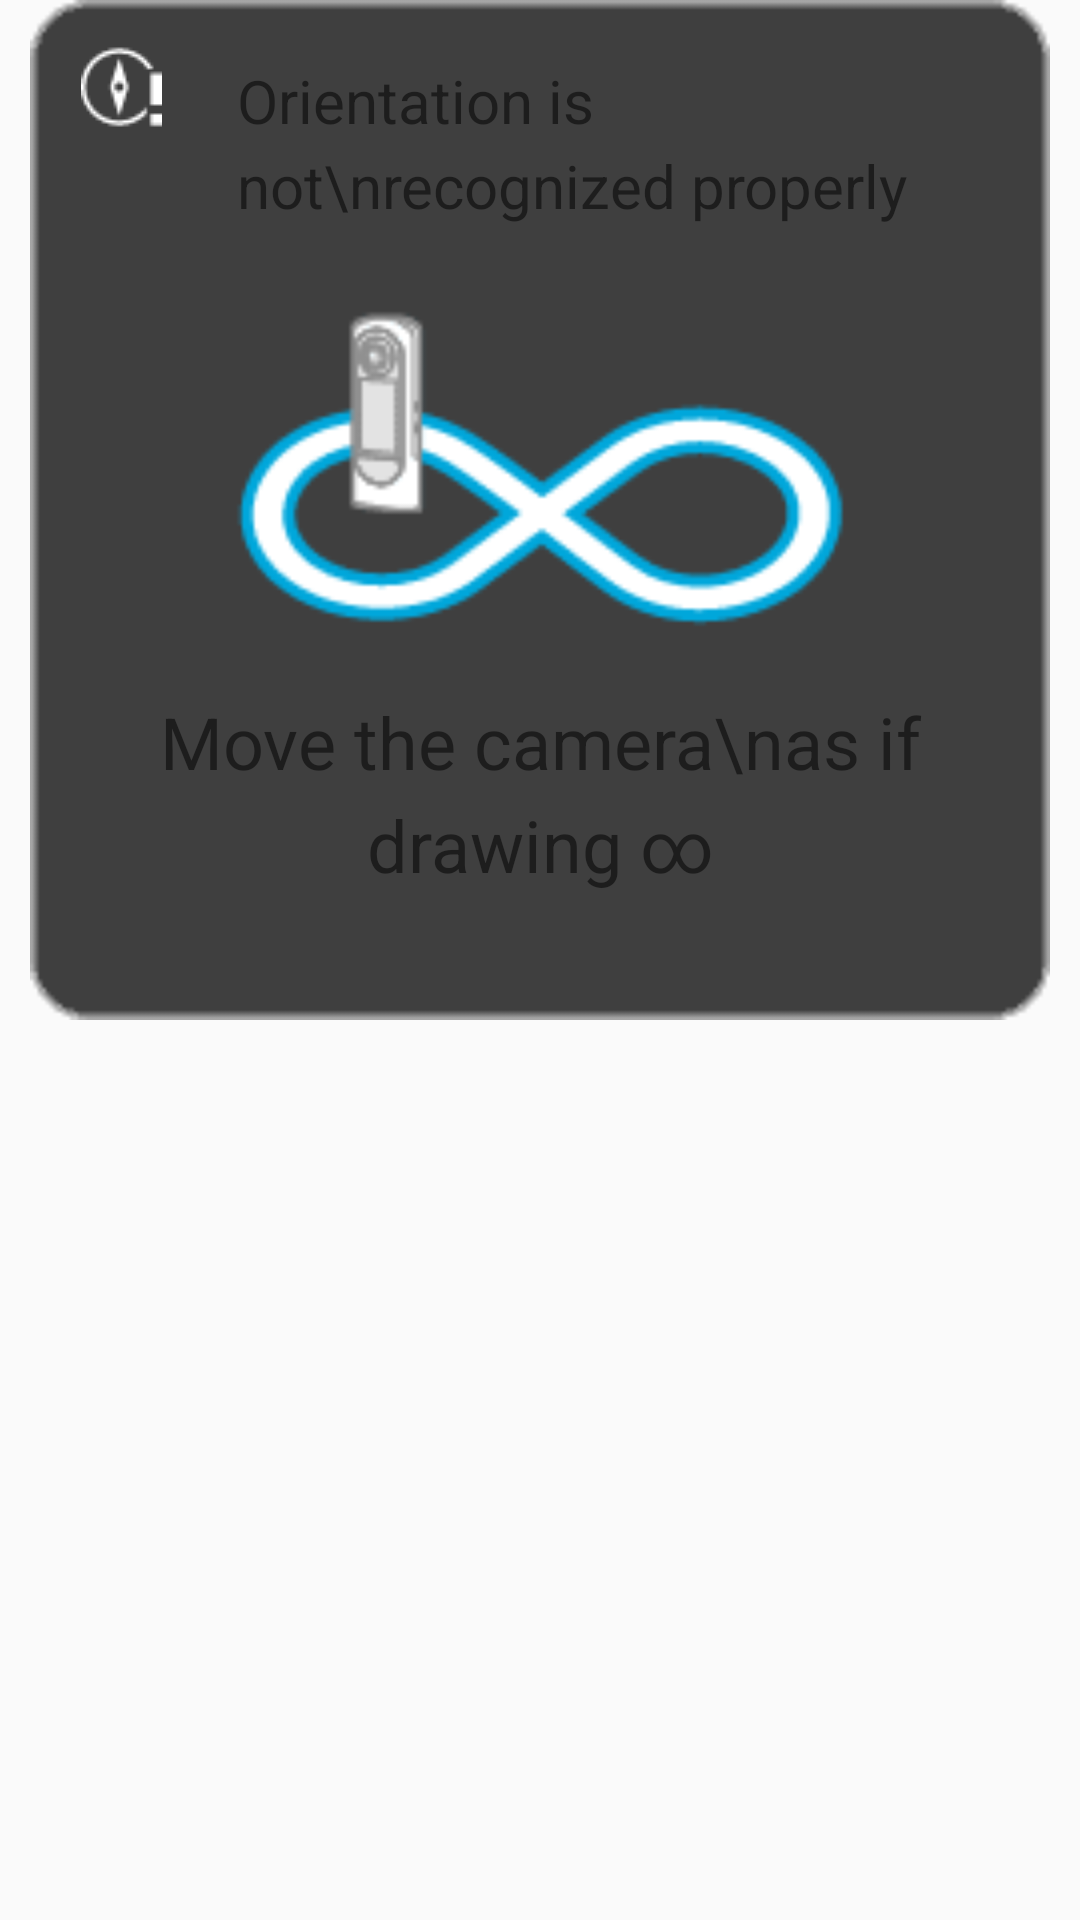

Where icons sit on this 1080×1920 app screen, as (x1, y1, x2, y2):
compass error: (81, 47, 162, 127)
